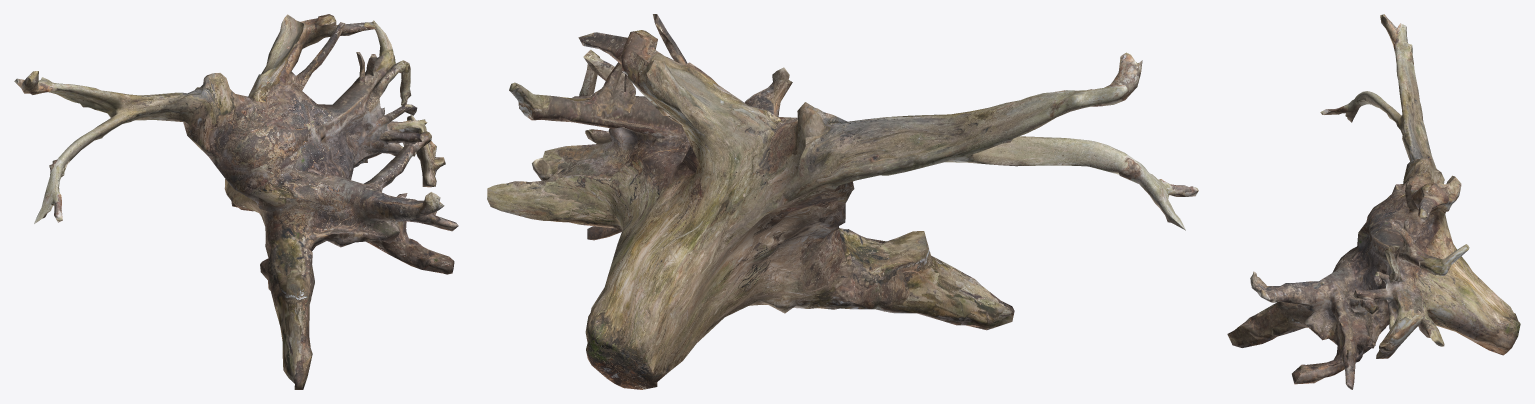
File: SM_TreeStump_08_01.fbx
The picture shows the model from 3 angles, left to right: view 1: azimuth 30°, elevation 25°; view 2: azimuth 150°, elevation 25°; view 3: azimuth 270°, elevation 25°; orthographic projection. The views are drawn at different scales.
Visible parts, largest first — view 1: sm_TreeStump_08_01_LOD0; view 2: sm_TreeStump_08_01_LOD0; view 3: sm_TreeStump_08_01_LOD0.
Part boxes in pixels (left/top/right/bottom): sm_TreeStump_08_01_LOD0: left=14, top=14, right=458, bottom=389; sm_TreeStump_08_01_LOD0: left=487, top=14, right=1198, bottom=389; sm_TreeStump_08_01_LOD0: left=1227, top=14, right=1520, bottom=389.
Bounding box in the file's own units: 139 × 208 × 134.
